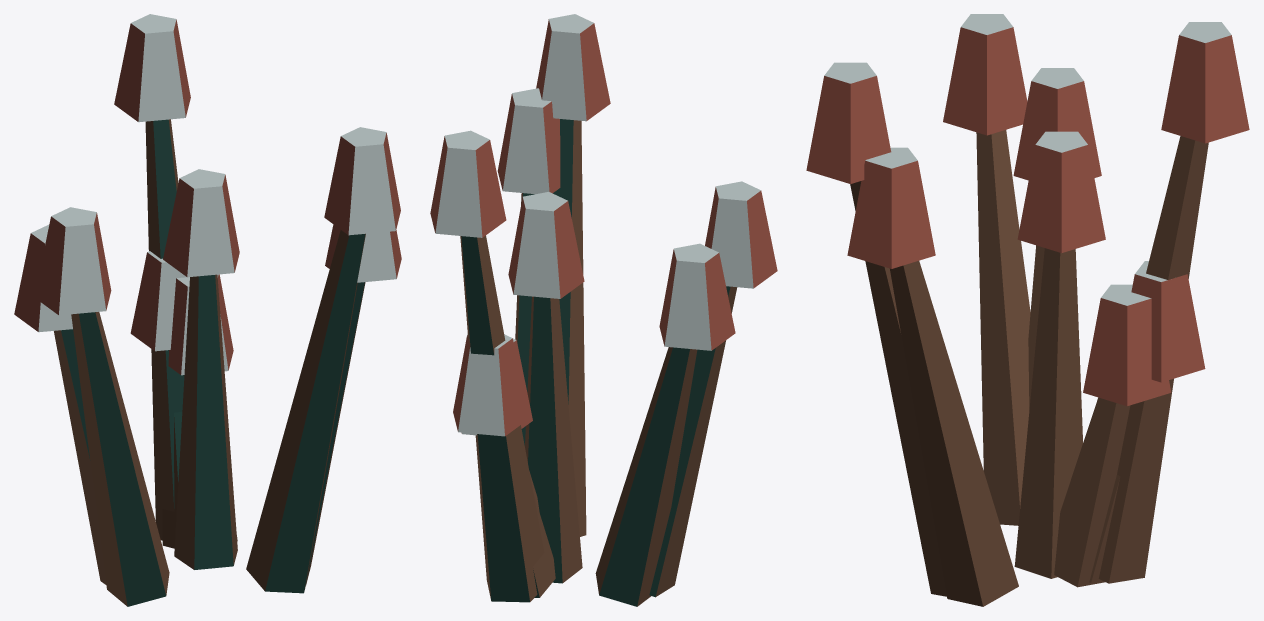
Rendered from berry-brush.glb.
3 views of the same model, side by side, from view 1: azimuth 30°, elevation 25°; view 2: azimuth 150°, elevation 25°; view 3: azimuth 270°, elevation 25° (orthographic). The views are drawn at different scales.
Visible parts, largest first — view 1: berry-brush; view 2: berry-brush; view 3: berry-brush.
Boxes of the visible parts, box(x1,y1,x2,y2) form: berry-brush: box(14, 14, 401, 606); berry-brush: box(430, 14, 777, 606); berry-brush: box(806, 14, 1249, 606).
Bounding box in the file's own units: 0.7172 × 1.07 × 0.7821.
